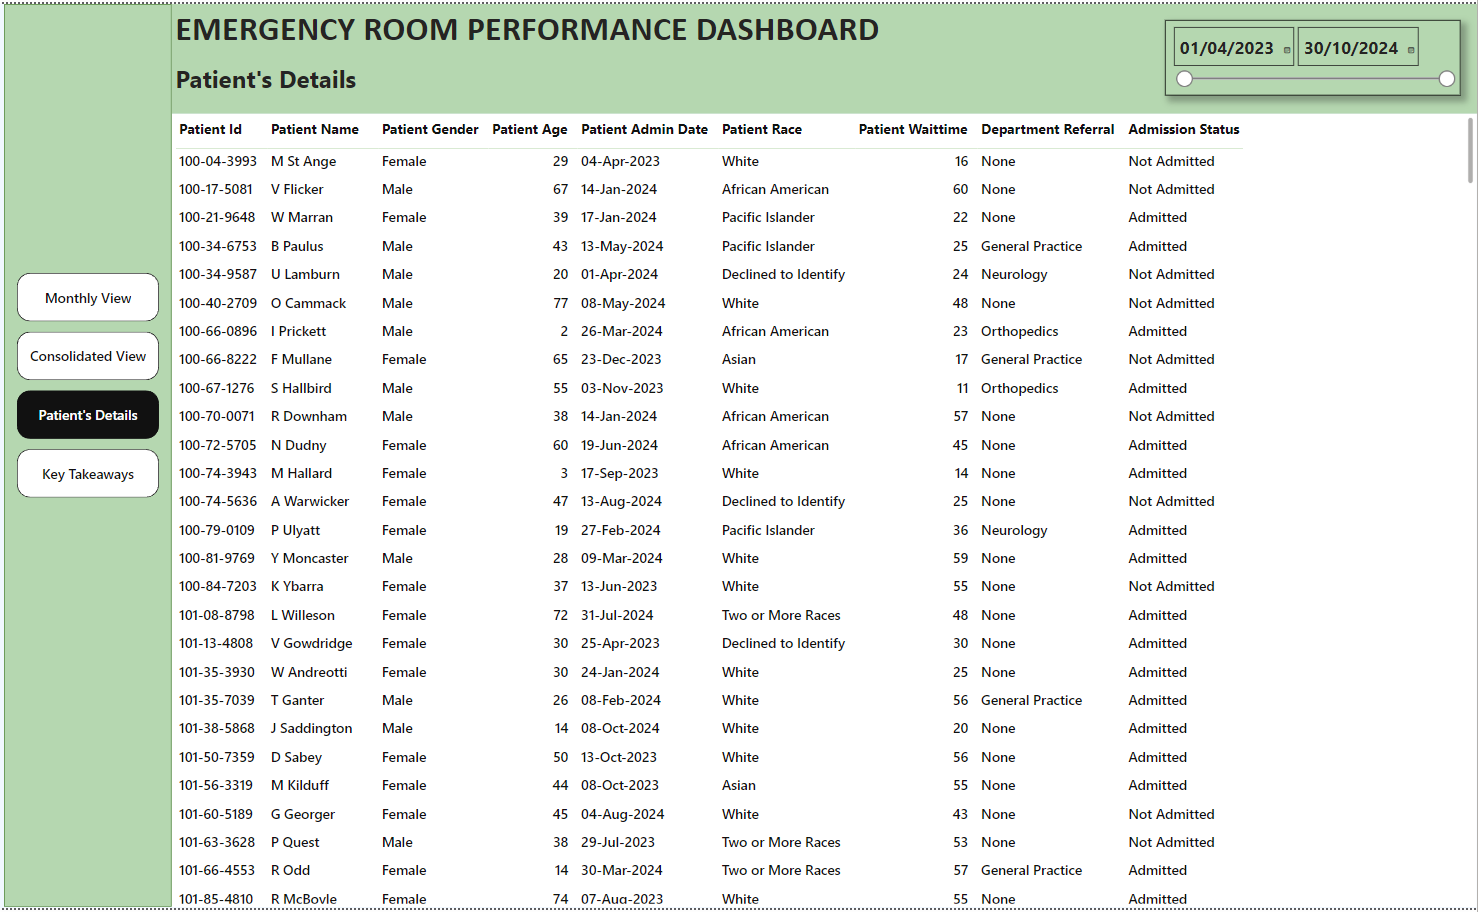

The page's visual inventory and layout, read from the dashboard file:
{"tool":"powerbi","page":{"name":"Patient's Details","canvas":[2300,1400],"ordinal":2},"visuals":[{"type":"shape","box":[277.3,0,2022.7,169.9],"z":0},{"type":"shape","box":[17.6,0,259.7,1399.2],"z":1000},{"type":"textbox","box":[277.3,0,1602.8,84.9],"z":2000},{"type":"textbox","box":[276.7,85,458.3,70],"z":3000},{"type":"slicer","fields":{"Values":["Date Table.Date"]},"box":[1816.7,25,458.3,116.7],"z":4000},{"type":"tableEx","fields":{"Values":["Hospital_1_Data.Patient Id","Hospital_1_Data.Patient Full Name","Hospital_1_Data.Patient Gender","Sum(Hospital_1_Data.Patient Age)","Hospital_1_Data.Patient Admin Date","Hospital_1_Data.Patient Race","Sum(Hospital_1_Data.Patient Waittime)","Hospital_1_Data.Department Referral","Hospital_1_Data.Admission Status"]},"box":[278,170,2022,1229],"z":5000},{"type":"pageNavigator","box":[36.7,416.7,220,350],"z":6000}]}

Visuals, with their boxes in screenshot pixels (x1, y1, x2, y2), scaled from the page's 2300x1400 canvas onto the 1481x912 screenshot:
shape: 179, 0, 1480, 111
shape: 11, 0, 179, 911
textbox: 179, 0, 1211, 55
textbox: 178, 55, 473, 101
slicer - Date Table.Date: 1170, 16, 1465, 92
tableEx - Hospital_1_Data.Patient Id x Hospital_1_Data.Patient Full Name: 179, 111, 1480, 911
pageNavigator: 24, 271, 165, 499
